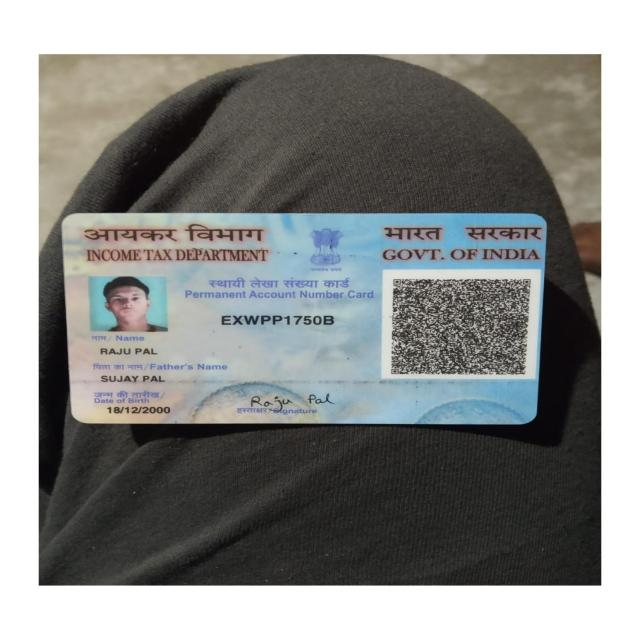pan_card: (64, 214, 544, 422)
